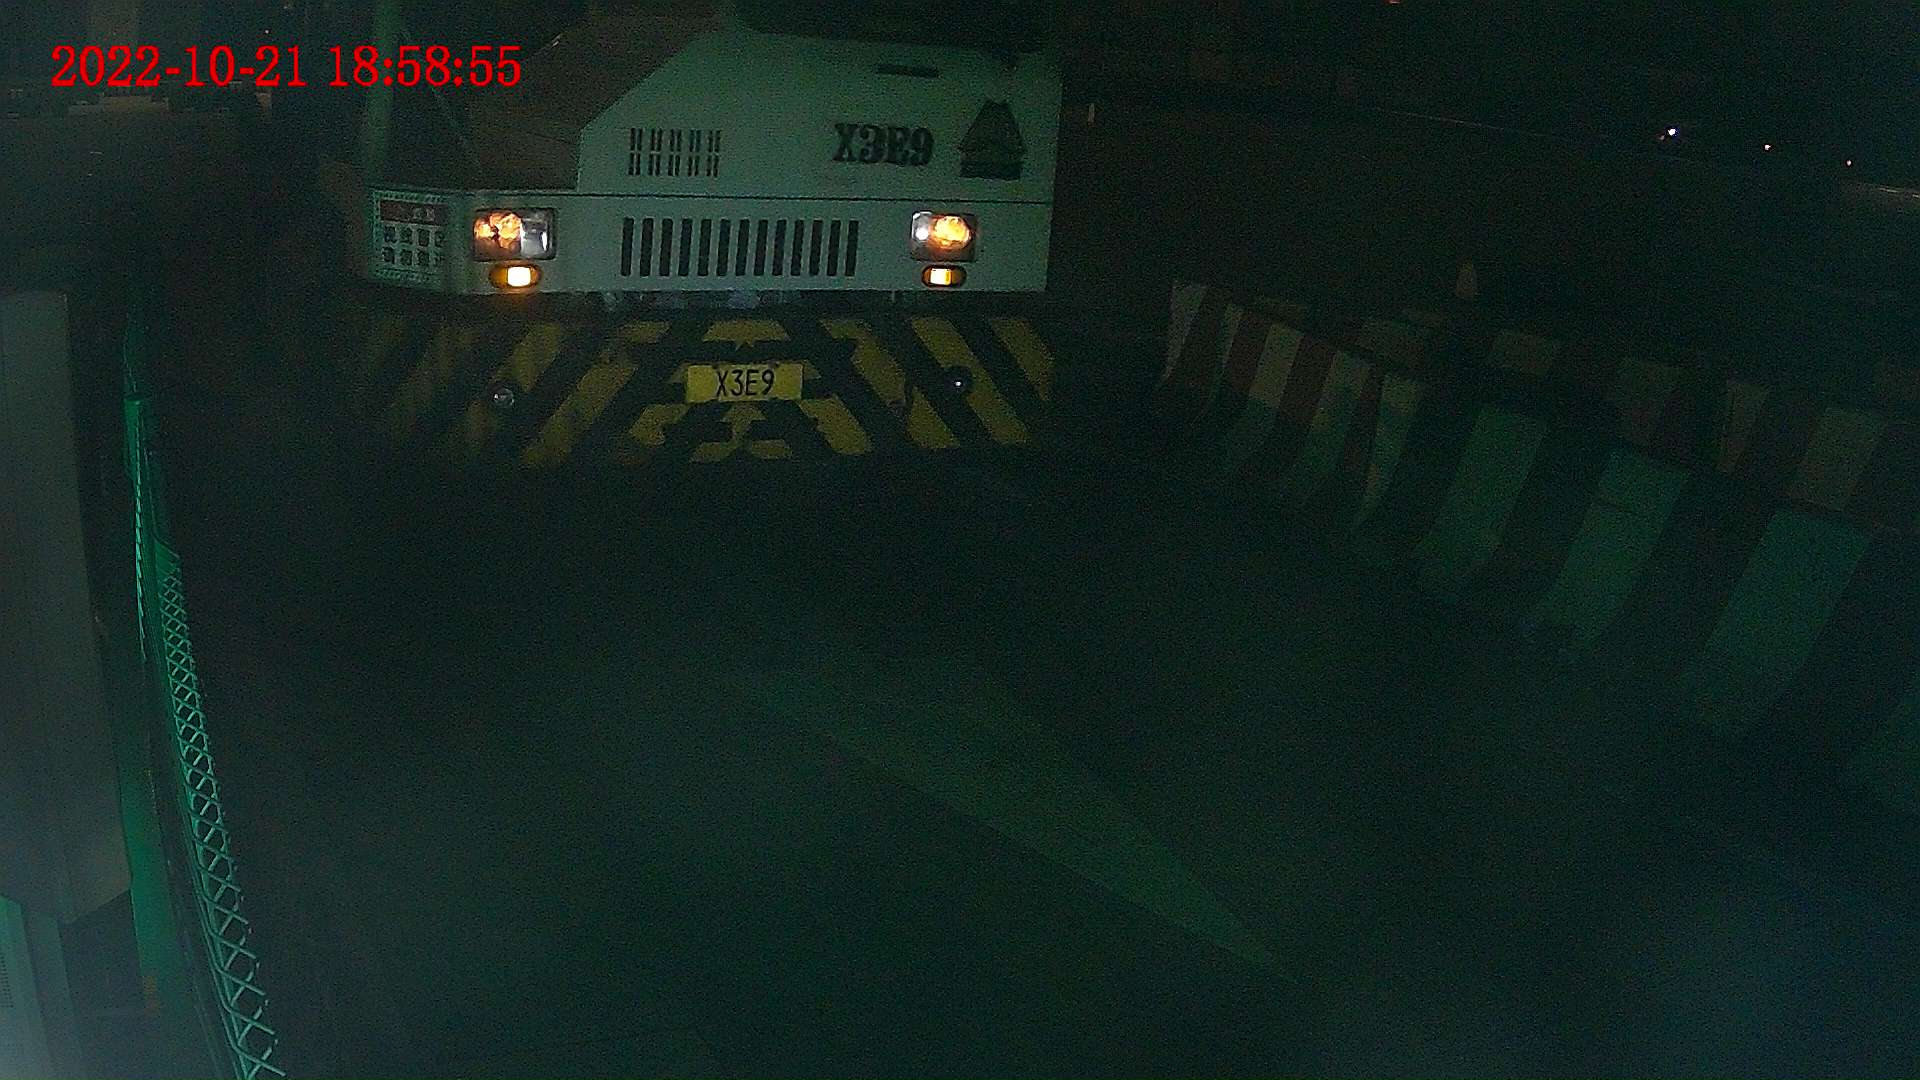head: (269, 1, 1063, 482)
plate: (693, 364, 802, 403)
